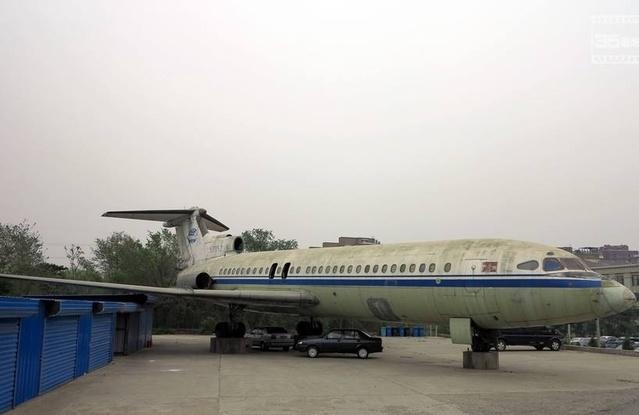airplane: (12, 203, 637, 351)
